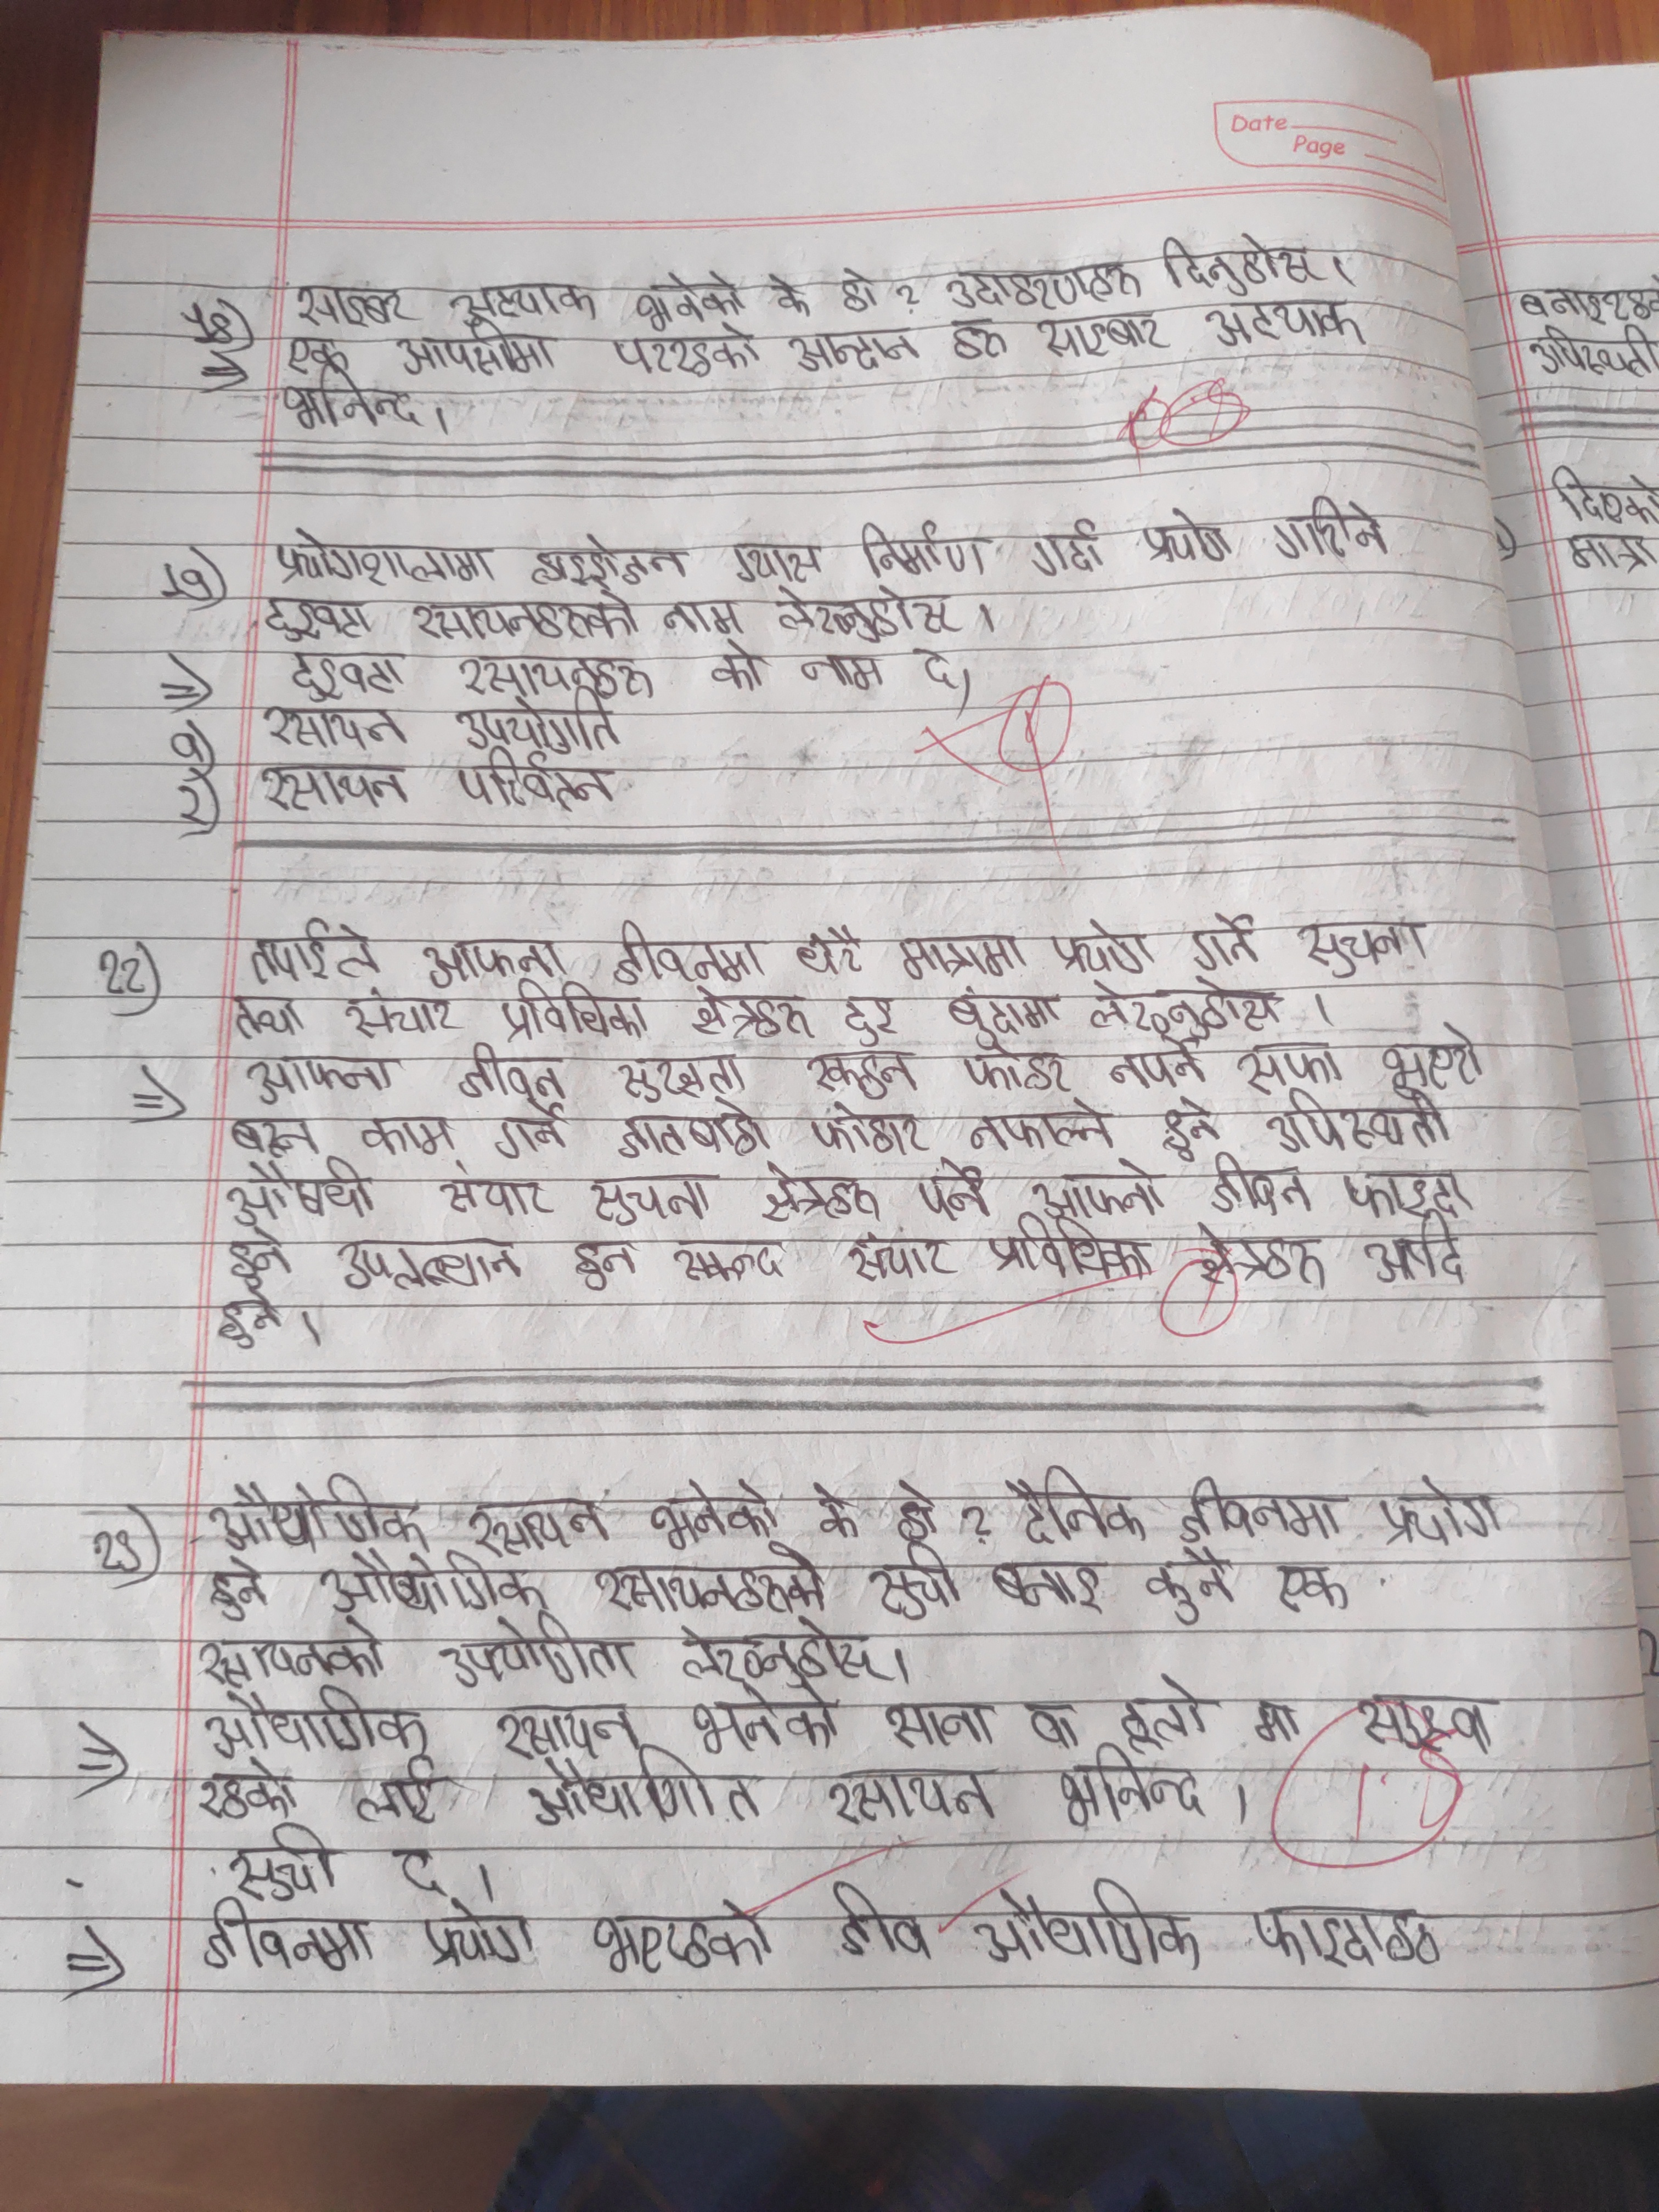text: (969, 1878, 1215, 1972), (523, 1756, 769, 1831), (587, 1543, 835, 1616), (207, 1475, 429, 1554), (589, 1897, 784, 1982), (202, 1688, 434, 1757), (666, 1618, 894, 1686), (321, 1550, 547, 1616), (1251, 1897, 1441, 1975), (272, 526, 498, 590), (434, 1618, 640, 1688), (200, 1900, 378, 1977), (192, 1620, 394, 1686), (410, 590, 643, 646), (1262, 1085, 1455, 1151), (1004, 1461, 1148, 1548), (1054, 1749, 1215, 1827), (1173, 1472, 1347, 1543), (772, 580, 962, 644), (687, 1679, 845, 1752), (824, 1766, 1012, 1827), (1084, 979, 1288, 1035), (985, 1217, 1166, 1280), (335, 1235, 525, 1294), (495, 979, 652, 1050), (457, 688, 620, 756), (451, 749, 615, 817), (650, 1474, 779, 1557), (221, 1160, 380, 1228), (610, 921, 765, 988), (1157, 237, 1328, 296), (396, 320, 559, 381), (941, 261, 1143, 310), (1373, 1477, 1511, 1548), (615, 1099, 774, 1160), (244, 916, 382, 986), (1194, 1226, 1335, 1294), (254, 761, 413, 820), (1202, 296, 1370, 352), (606, 324, 769, 381), (457, 1496, 615, 1554), (941, 981, 1068, 1050), (528, 536, 692, 590), (488, 1705, 647, 1761), (457, 657, 657, 700), (828, 1879, 934, 1961), (279, 371, 423, 430), (1300, 921, 1439, 982), (228, 1822, 342, 1897), (965, 1101, 1121, 1155), (422, 1897, 538, 1968), (856, 521, 988, 583), (683, 979, 816, 1042), (242, 1052, 401, 1104), (1138, 1547, 1243, 1625), (1030, 1163, 1176, 1219), (1382, 1019, 1490, 1094), (1354, 1693, 1499, 1749), (420, 935, 568, 989), (446, 279, 605, 327), (866, 1540, 962, 1620), (1340, 1165, 1478, 1221), (1272, 496, 1387, 563), (451, 1040, 568, 1104), (1114, 1676, 1209, 1754), (254, 705, 408, 754), (1361, 1221, 1471, 1289), (756, 1169, 885, 1226), (983, 1559, 1107, 1618), (634, 272, 751, 333), (587, 1176, 718, 1230), (805, 1104, 931, 1160), (1204, 1155, 1316, 1217), (284, 648, 406, 704), (1028, 312, 1171, 359), (193, 1761, 303, 1822), (840, 1230, 955, 1287), (612, 1052, 746, 1101), (892, 932, 1030, 979), (356, 1759, 450, 1827), (1105, 1031, 1215, 1089), (960, 1043, 1077, 1097), (291, 280, 420, 329), (884, 1698, 995, 1754), (805, 1049, 920, 1103), (1054, 918, 1155, 979), (256, 596, 371, 648), (1236, 1040, 1354, 1090), (782, 326, 918, 369), (342, 991, 462, 1040), (667, 1238, 786, 1287), (1143, 510, 1234, 568), (490, 1099, 570, 1162), (437, 1177, 558, 1219), (357, 1113, 460, 1162), (913, 1160, 995, 1221), (1183, 916, 1272, 972), (728, 540, 828, 589), (223, 1111, 321, 1160), (798, 644, 889, 695), (1032, 519, 1107, 580), (1270, 1561, 1354, 1615), (202, 1559, 272, 1623), (1154, 1094, 1220, 1160), (227, 1224, 291, 1289), (793, 927, 875, 977), (566, 1237, 641, 1291), (709, 639, 774, 700), (216, 1289, 282, 1348), (880, 1482, 946, 1541), (230, 993, 307, 1043), (805, 1484, 866, 1547), (938, 315, 1012, 366), (836, 991, 903, 1047), (659, 599, 746, 641), (390, 1839, 450, 1898), (1249, 1691, 1310, 1747), (765, 272, 824, 322), (284, 333, 350, 376), (833, 263, 884, 319), (1025, 1700, 1084, 1747), (911, 644, 962, 697)
